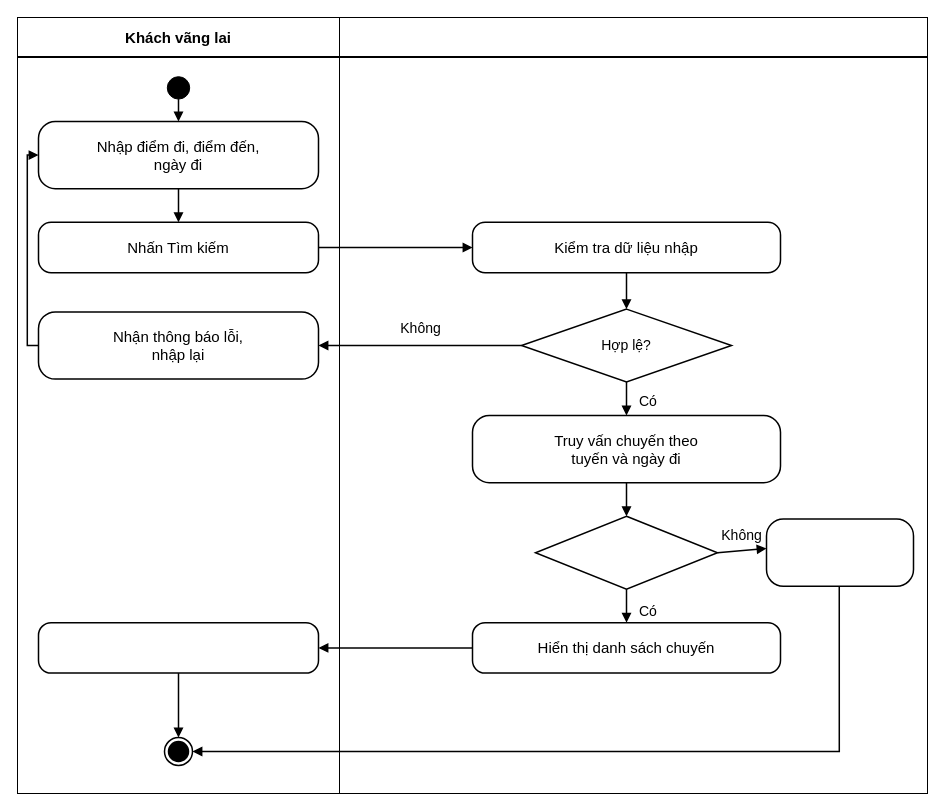
Some shapes in this 945 by 811 pixel diagram are drawn without their labels. The shapes that lost their labels are listed below. From the top down, each one's centre as x and y in pixels, then its label:
the point at 633,36: Hệ thống
the point at 626,552: Có chuyến?
the point at 839,552: Báo không có chuyến
the point at 178,647: Xem kết quả tìm kiếm
